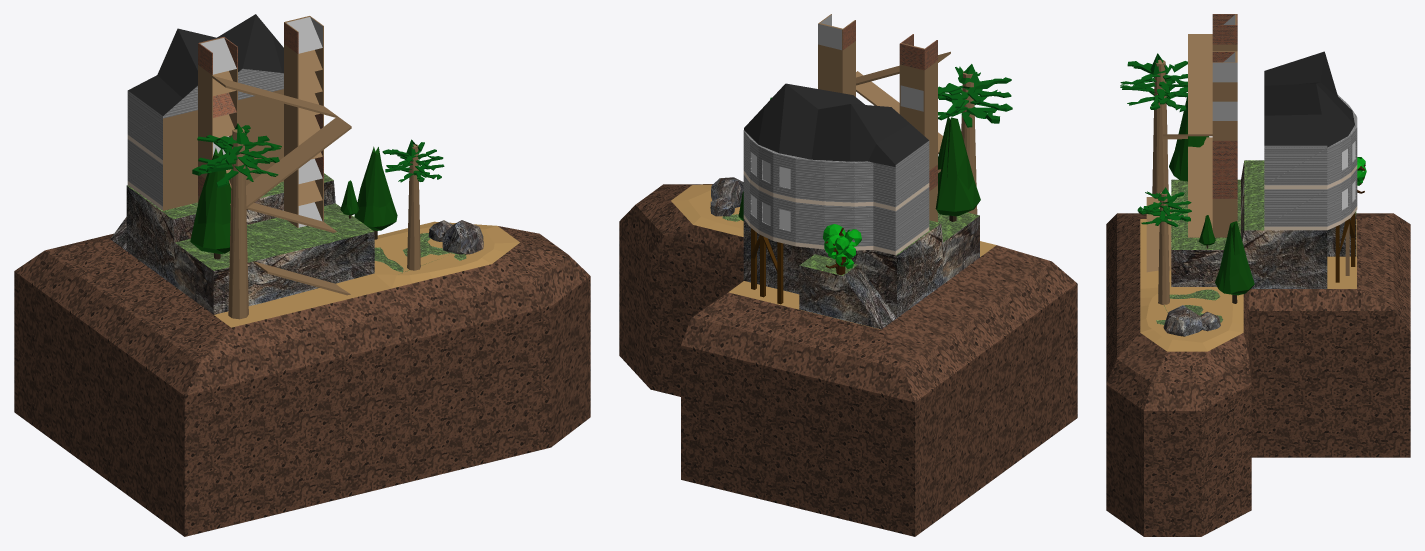
Rendered from LootLakeHouse.glb.
The picture shows the model from 3 angles, left to right: view 1: azimuth 30°, elevation 25°; view 2: azimuth 150°, elevation 25°; view 3: azimuth 270°, elevation 25°; orthographic projection. The views are drawn at different scales.
Parts seen in each view (by area): view 1: Ground, House, Towers, Tree, Leaves, Ramps, Tree.001, Rock; view 2: Ground, House, Towers, Leaves, Tree, Ramps, Rock; view 3: Ground, House, Ramps, Towers, Tree, Leaves, Tree.001, Rock.
Part boxes in pixels (x1,y1,x2,y2): Ground: (14, 173, 590, 536); House: (127, 14, 283, 210); Towers: (198, 16, 323, 227); Tree: (192, 123, 281, 319); Leaves: (190, 146, 397, 253); Ramps: (212, 75, 351, 295); Tree.001: (382, 139, 444, 270); Rock: (442, 220, 483, 254); Ground: (619, 184, 1077, 536); House: (743, 83, 929, 304); Towers: (818, 14, 937, 222); Leaves: (738, 115, 980, 268); Tree: (938, 64, 1012, 214); Ramps: (856, 51, 950, 173); Rock: (711, 177, 743, 207); Ground: (1106, 160, 1410, 536); House: (1264, 51, 1357, 282); Ramps: (1146, 34, 1212, 272); Towers: (1212, 14, 1237, 237); Tree: (1120, 53, 1187, 194); Leaves: (1169, 97, 1366, 295); Tree.001: (1137, 187, 1191, 304); Rock: (1163, 305, 1202, 336).
Bounding box in the file's own units: 32.47 × 30.41 × 22.42.
Materials: 17 (5 with a texture image).
